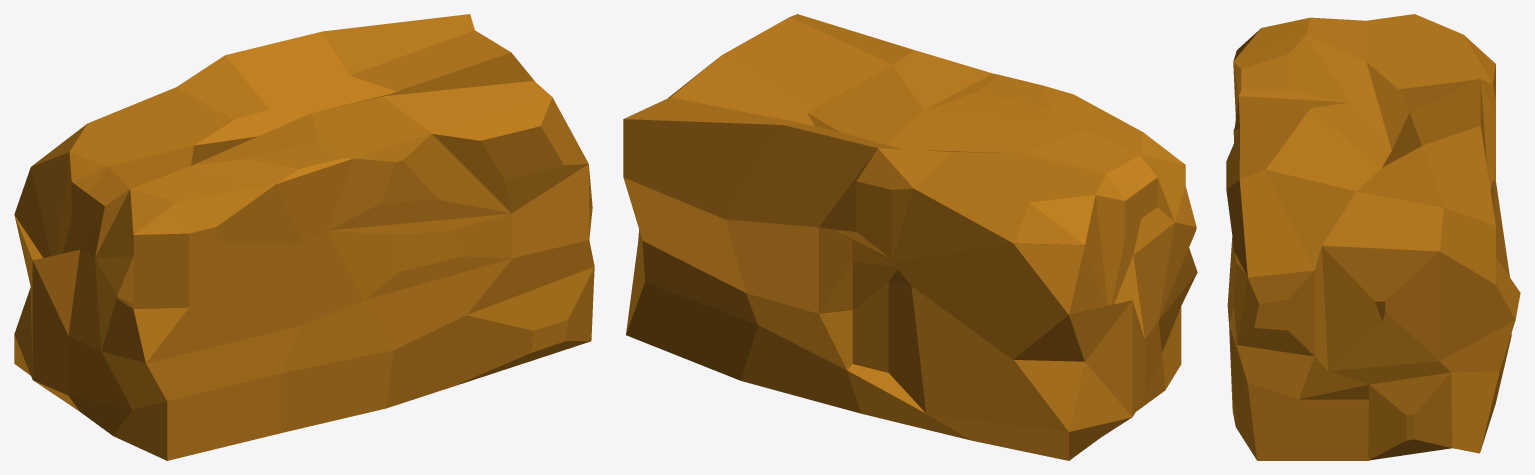
The model's file is Roquita.fbx.
3 views of the same model, side by side, from view 1: azimuth 30°, elevation 25°; view 2: azimuth 150°, elevation 25°; view 3: azimuth 270°, elevation 25° (orthographic). The views are drawn at different scales.
Visible parts, largest first — view 1: Cube; view 2: Cube; view 3: Cube.
Part boxes in pixels (left/top/right/bottom): Cube: left=14, top=14, right=594, bottom=460; Cube: left=623, top=14, right=1197, bottom=460; Cube: left=1226, top=14, right=1520, bottom=460.
Bounding box in the file's own units: 431 × 231 × 227.
